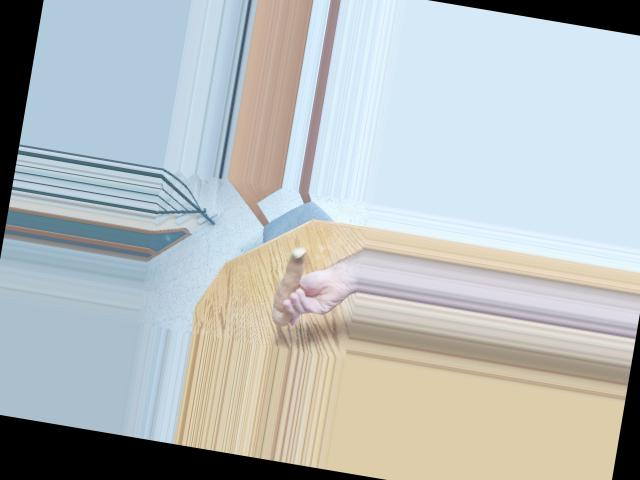sweet_potato: (266, 246, 314, 330)
